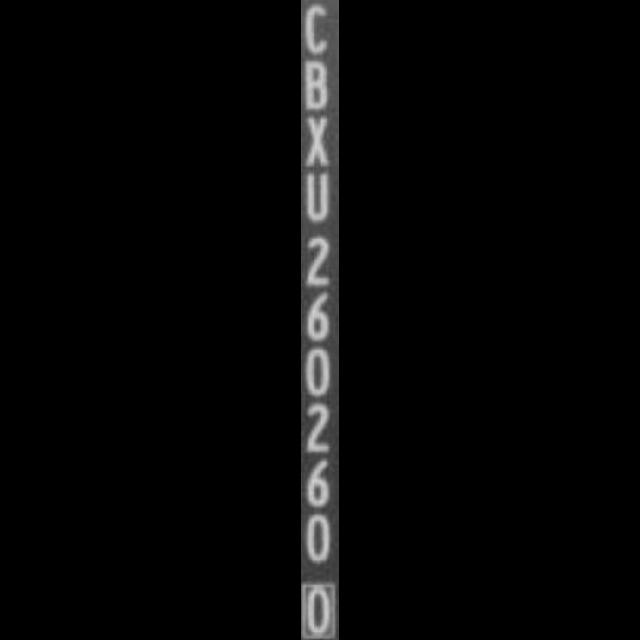0: (301, 510, 339, 564), (301, 588, 339, 640), (301, 346, 335, 398)
2: (301, 230, 339, 292), (301, 401, 339, 462)
6: (301, 453, 339, 512), (301, 292, 337, 346)
b: (301, 56, 337, 114)
c: (301, 0, 335, 58)
u: (301, 169, 335, 225)
x: (302, 107, 338, 171)
